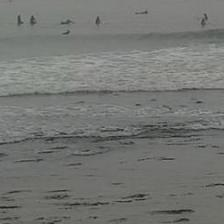surfer: (29, 15, 36, 24), (134, 11, 148, 15), (60, 20, 73, 24), (17, 14, 22, 24), (95, 16, 101, 24), (62, 30, 71, 34), (201, 19, 206, 26), (204, 12, 208, 20)
